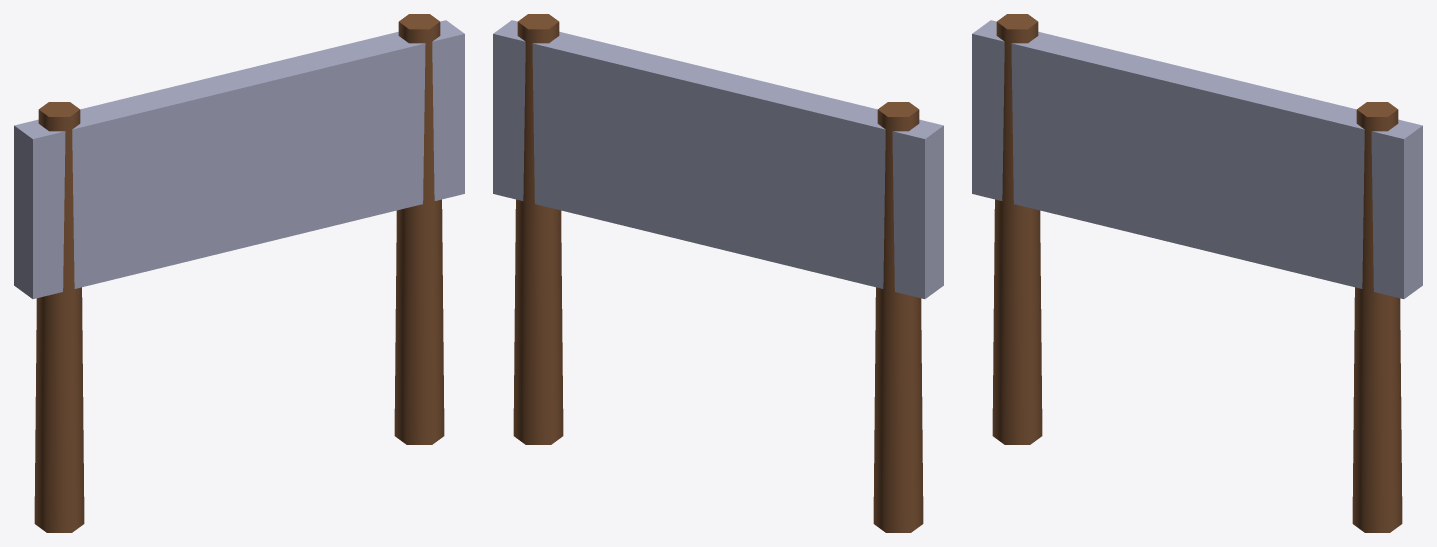
Rendered from sign_frame.glb.
3 renders of one model, left to right at view 1: azimuth 30°, elevation 25°; view 2: azimuth 150°, elevation 25°; view 3: azimuth 330°, elevation 25°, orthographic.
Visible parts, largest first — view 1: sign_board, post_-1, post_1; view 2: sign_board, post_-1, post_1; view 3: sign_board, post_1, post_-1.
Boxes of the visible parts, x1=… form: sign_board: x1=14, y1=20, x2=464, y2=298; post_-1: x1=34, y1=102, x2=84, y2=532; post_1: x1=394, y1=14, x2=444, y2=444; sign_board: x1=493, y1=20, x2=943, y2=298; post_-1: x1=873, y1=102, x2=923, y2=532; post_1: x1=513, y1=14, x2=563, y2=444; sign_board: x1=972, y1=20, x2=1422, y2=298; post_1: x1=1352, y1=102, x2=1402, y2=532; post_-1: x1=992, y1=14, x2=1042, y2=444.
Size of what is drawn, in the model's own units: 2.4 by 2.2 by 0.24.
